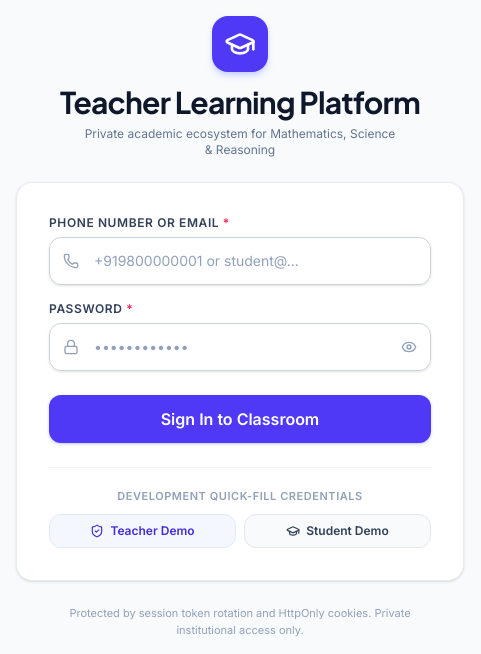
it: LoginPage Component › populates demo credentials when clicking quick-fill buttons
Step 1. Click the button "Teacher Demo" → (142, 531), box [49,514,236,548]
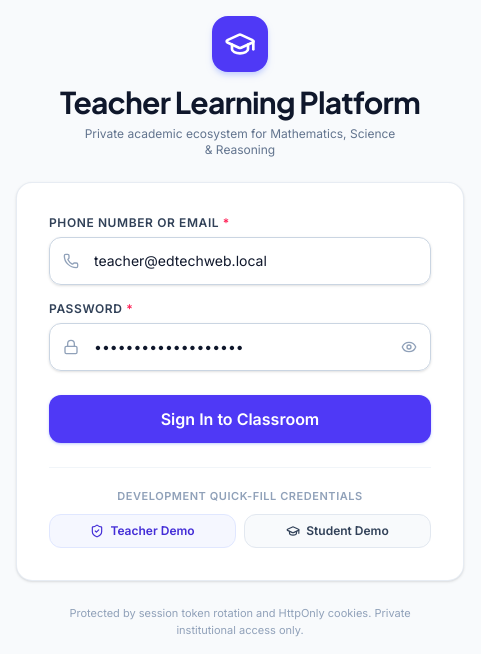
Result: the field labelled "Phone Number or Email *" holds "teacher@edtechweb.local" at [49,237,431,285]
Result: the password field labelled "Password *" holds "TeacherPassword123!" at [49,323,431,371]
